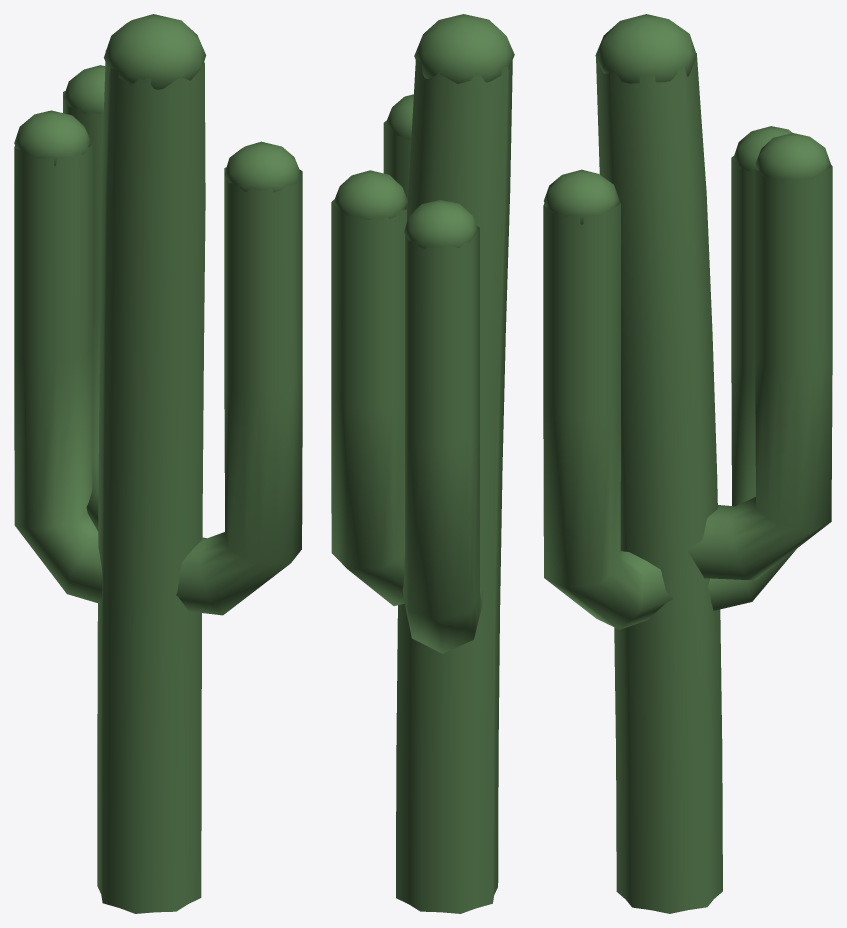
Rendered from saguaro_1_mid.glb.
3 views of the same model, side by side, from view 1: azimuth 30°, elevation 25°; view 2: azimuth 150°, elevation 25°; view 3: azimuth 270°, elevation 25° (orthographic).
Visible parts, largest first — view 1: saguaro_1_mid; view 2: saguaro_1_mid; view 3: saguaro_1_mid.
Part boxes in pixels (x1=…): saguaro_1_mid: x1=14, y1=14, x2=302, y2=913; saguaro_1_mid: x1=331, y1=14, x2=514, y2=913; saguaro_1_mid: x1=543, y1=14, x2=832, y2=913.
Size of the model in its own units: 1.27 by 5.91 by 1.78.
